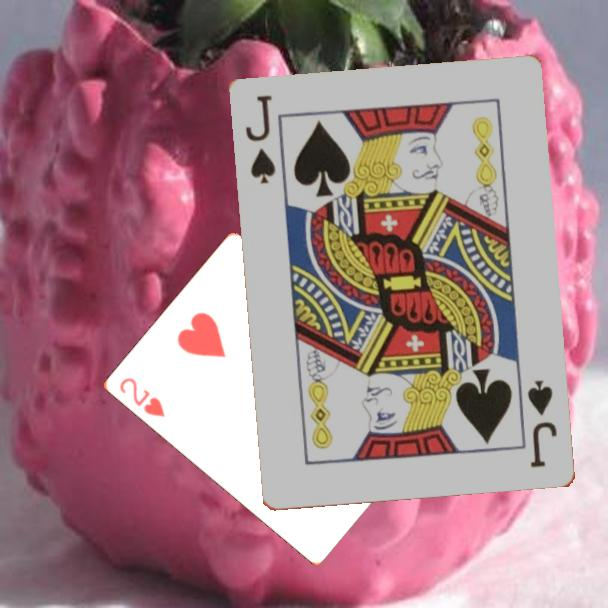h02: (115, 374, 168, 420)
s11: (242, 92, 279, 187), (524, 377, 561, 471)
